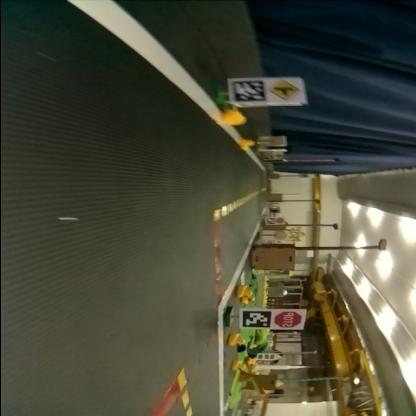Duckie: (221, 112, 245, 126), (228, 335, 246, 346), (237, 139, 255, 150), (237, 286, 252, 298), (233, 362, 245, 370), (242, 298, 256, 304), (249, 344, 256, 350)
Intersection sign: (272, 80, 300, 100)
QR code: (234, 82, 266, 102), (243, 312, 271, 328), (267, 219, 275, 225), (264, 154, 272, 160)
Stop sign: (274, 311, 302, 329)
